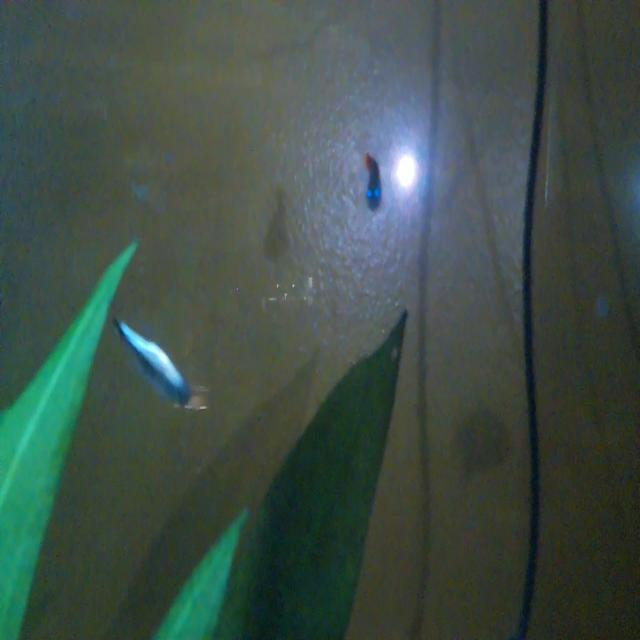fish: (112, 309, 191, 421), (355, 151, 383, 210)
